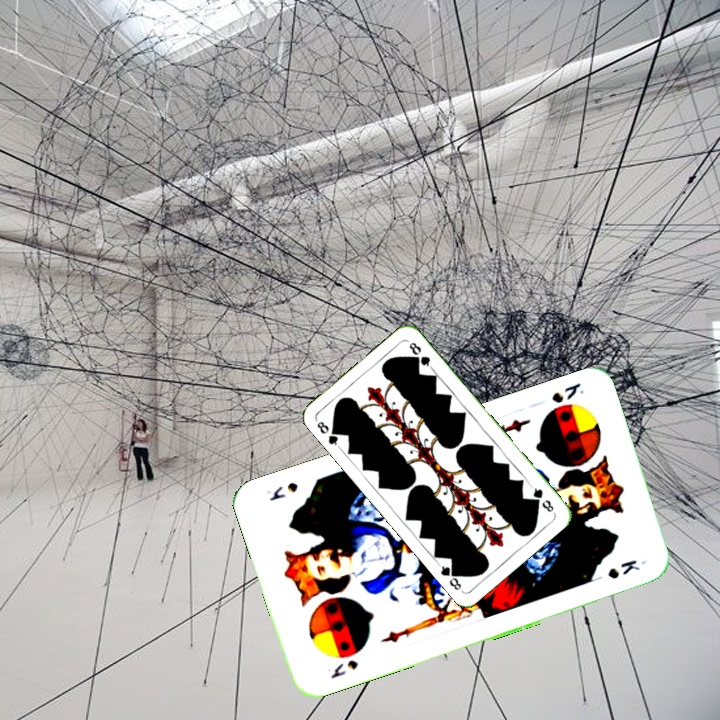G8: (312, 417, 343, 451), (527, 482, 556, 515)
SK: (547, 378, 587, 406), (326, 656, 361, 681)
